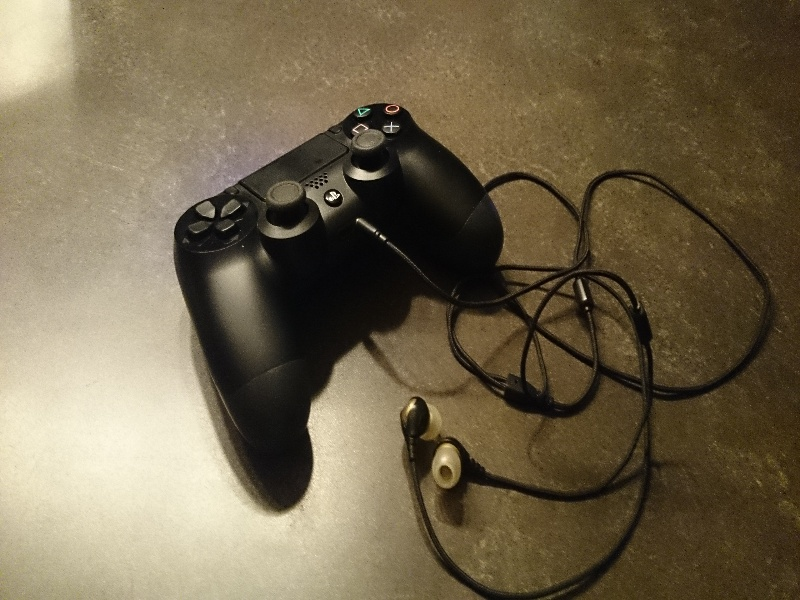ps4 joystick: (170, 100, 508, 515)
